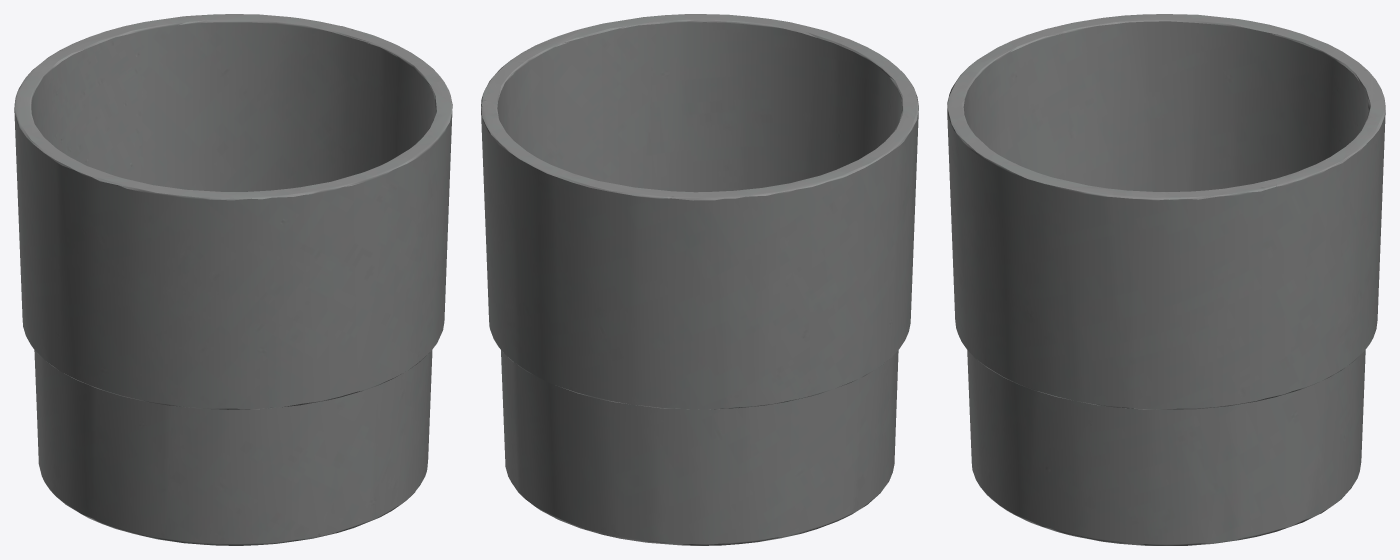
Rendered from 16 - NYPON - 花盆，室內戶外用 灰色，9 公分 IKEA 線上購物.glb.
3 renders of one model, left to right at view 1: azimuth 30°, elevation 25°; view 2: azimuth 150°, elevation 25°; view 3: azimuth 270°, elevation 25°, orthographic.
Visible parts, largest first — view 1: ProcessedMeshNode; view 2: ProcessedMeshNode; view 3: ProcessedMeshNode.
Part boxes in pixels (x1,y1,x2,y2): ProcessedMeshNode: (14, 14, 452, 545); ProcessedMeshNode: (481, 14, 918, 545); ProcessedMeshNode: (947, 14, 1385, 545).
Bounding box in the file's own units: 0.1039 × 0.096 × 0.1039.
Materials: 1 (1 with a texture image).
